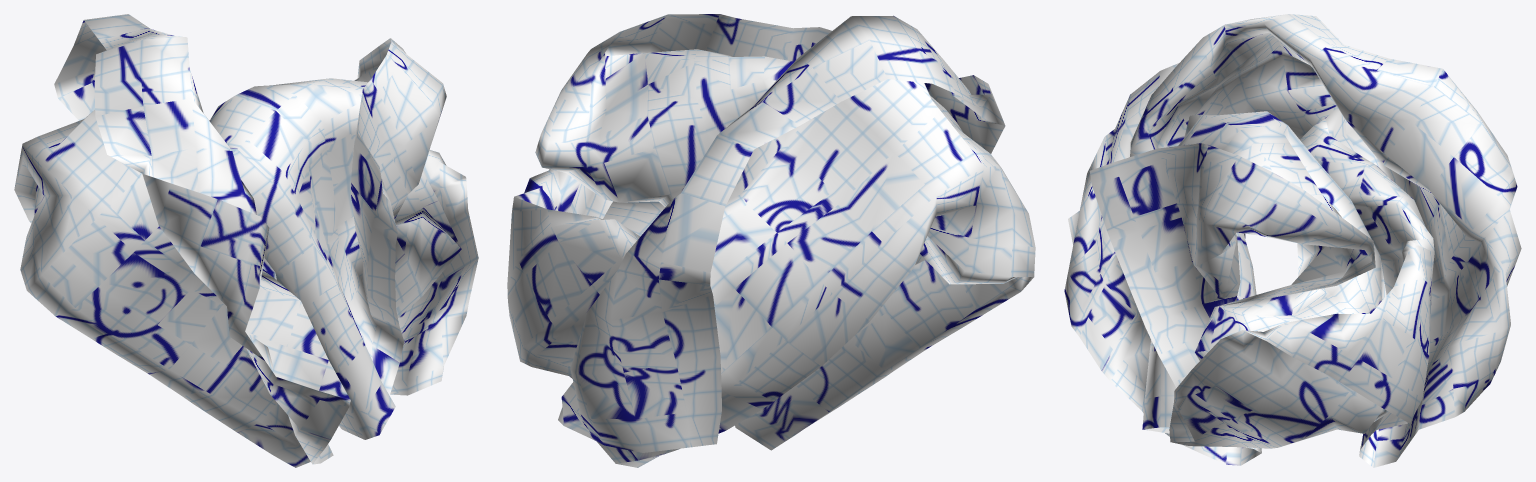
File: Crumple_002.fbx
3 renders of one model, left to right at view 1: azimuth 30°, elevation 25°; view 2: azimuth 150°, elevation 25°; view 3: azimuth 270°, elevation 25°, orthographic. The views are drawn at different scales.
Parts seen in each view (by area): view 1: paper; view 2: paper; view 3: paper.
Part boxes in pixels (x1,y1,x2,y2): paper: (14, 14, 478, 467); paper: (507, 14, 1035, 467); paper: (1064, 14, 1521, 467).
Size of the model in its own units: 96.66 by 90 by 92.5.
